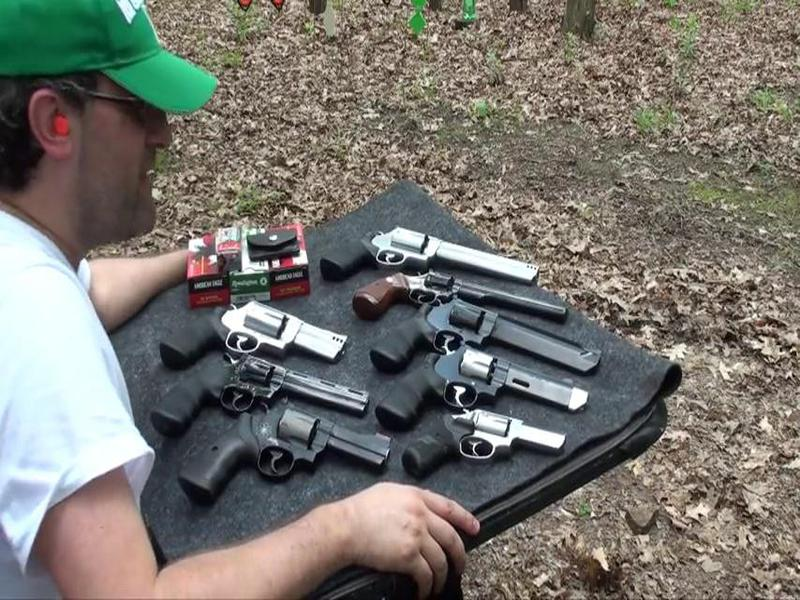Revolver: (317, 213, 577, 290)
